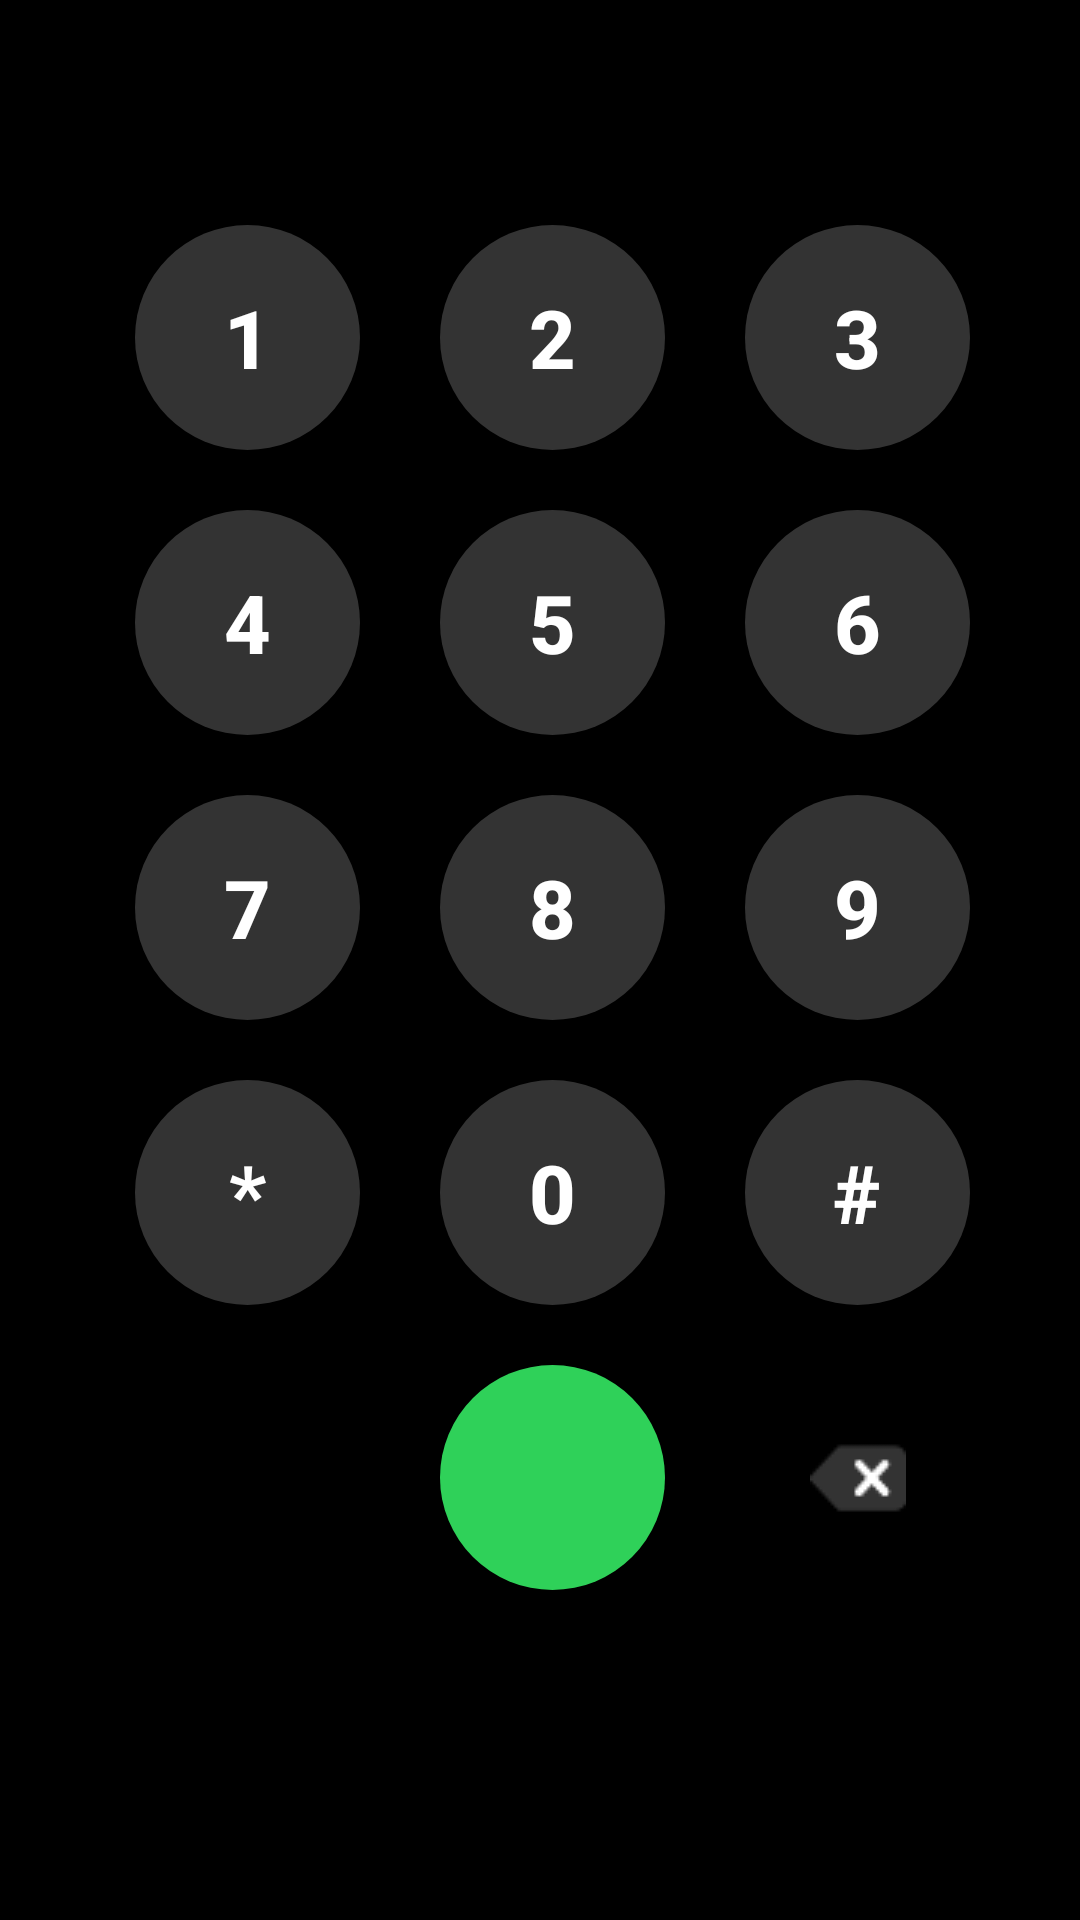

Icons on this 1080x1920 Android screen, each with its box as Rect(x1, y1, x2, y2):
supprimer: Rect(810, 1446, 906, 1511)
